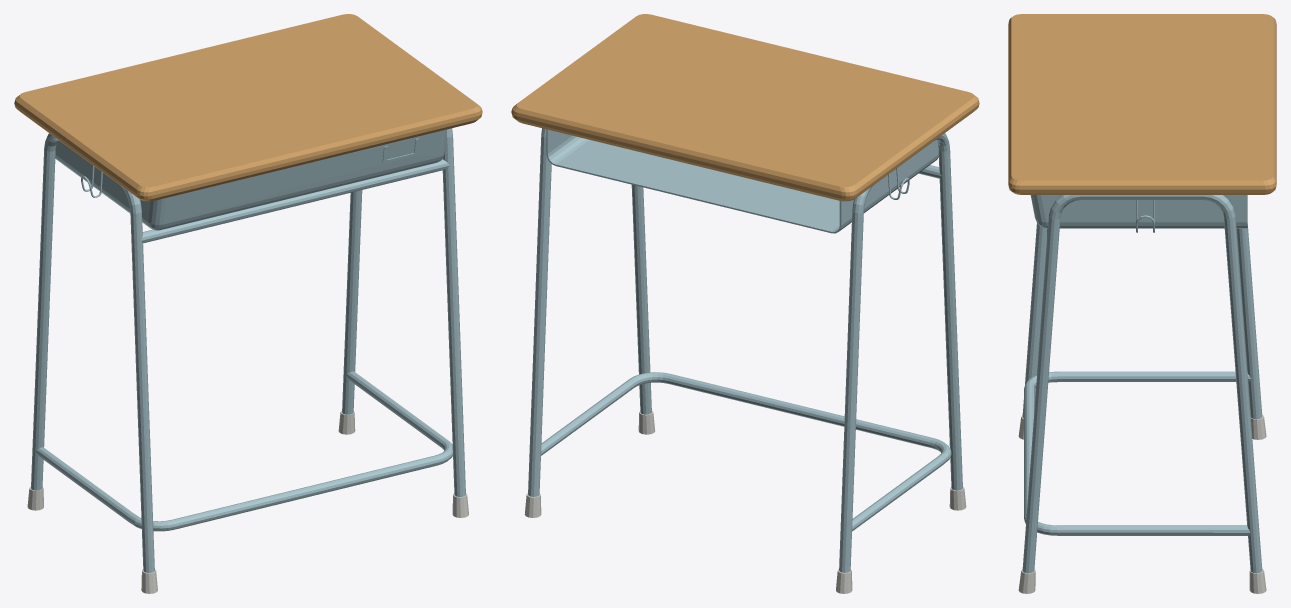
File: School Desk.fbx
3 renders of one model, left to right at view 1: azimuth 30°, elevation 25°; view 2: azimuth 150°, elevation 25°; view 3: azimuth 270°, elevation 25°, orthographic.
Parts seen in each view (by area): view 1: School Dask.001; view 2: School Dask.001; view 3: School Dask.001.
Boxes of the visible parts, x1,y1,x2,y2 form: School Dask.001: (14, 14, 482, 593); School Dask.001: (511, 14, 979, 593); School Dask.001: (1008, 14, 1276, 593).
Bounding box in the file's own units: 61.61 × 70.16 × 40.96.
